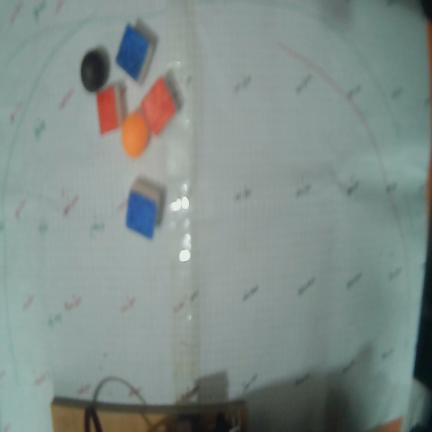circle_blue: (81, 46, 110, 92)
circle_orange: (122, 111, 149, 157)
rectangle_blue: (125, 189, 157, 238)
rectangle_orange: (96, 86, 120, 132)
square_blue: (117, 23, 150, 82)
square_orange: (142, 76, 177, 135)
